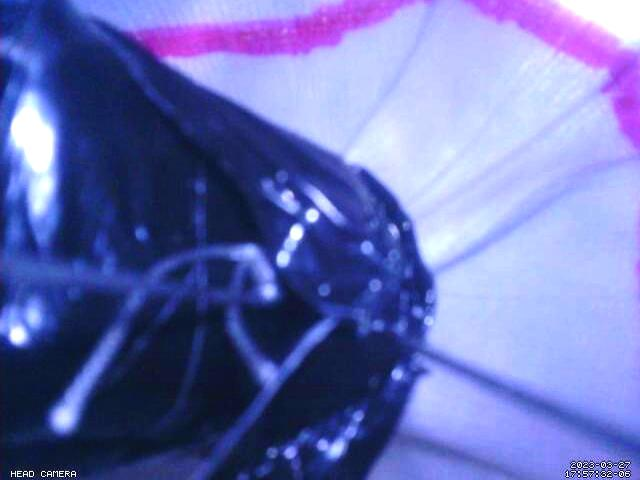red-circle: (122, 0, 640, 149)
